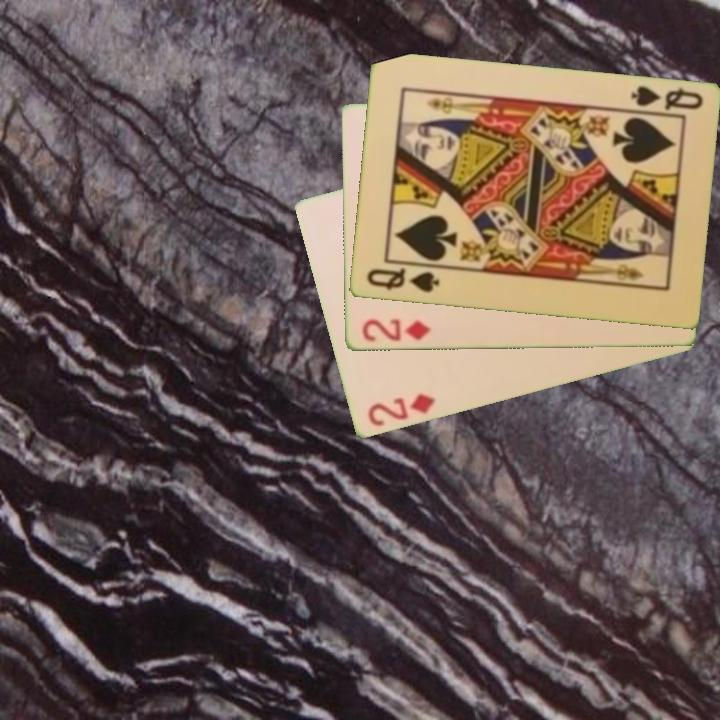2d: (363, 390, 438, 430), (358, 315, 433, 345)
Qs: (624, 83, 706, 119), (363, 265, 442, 296)
